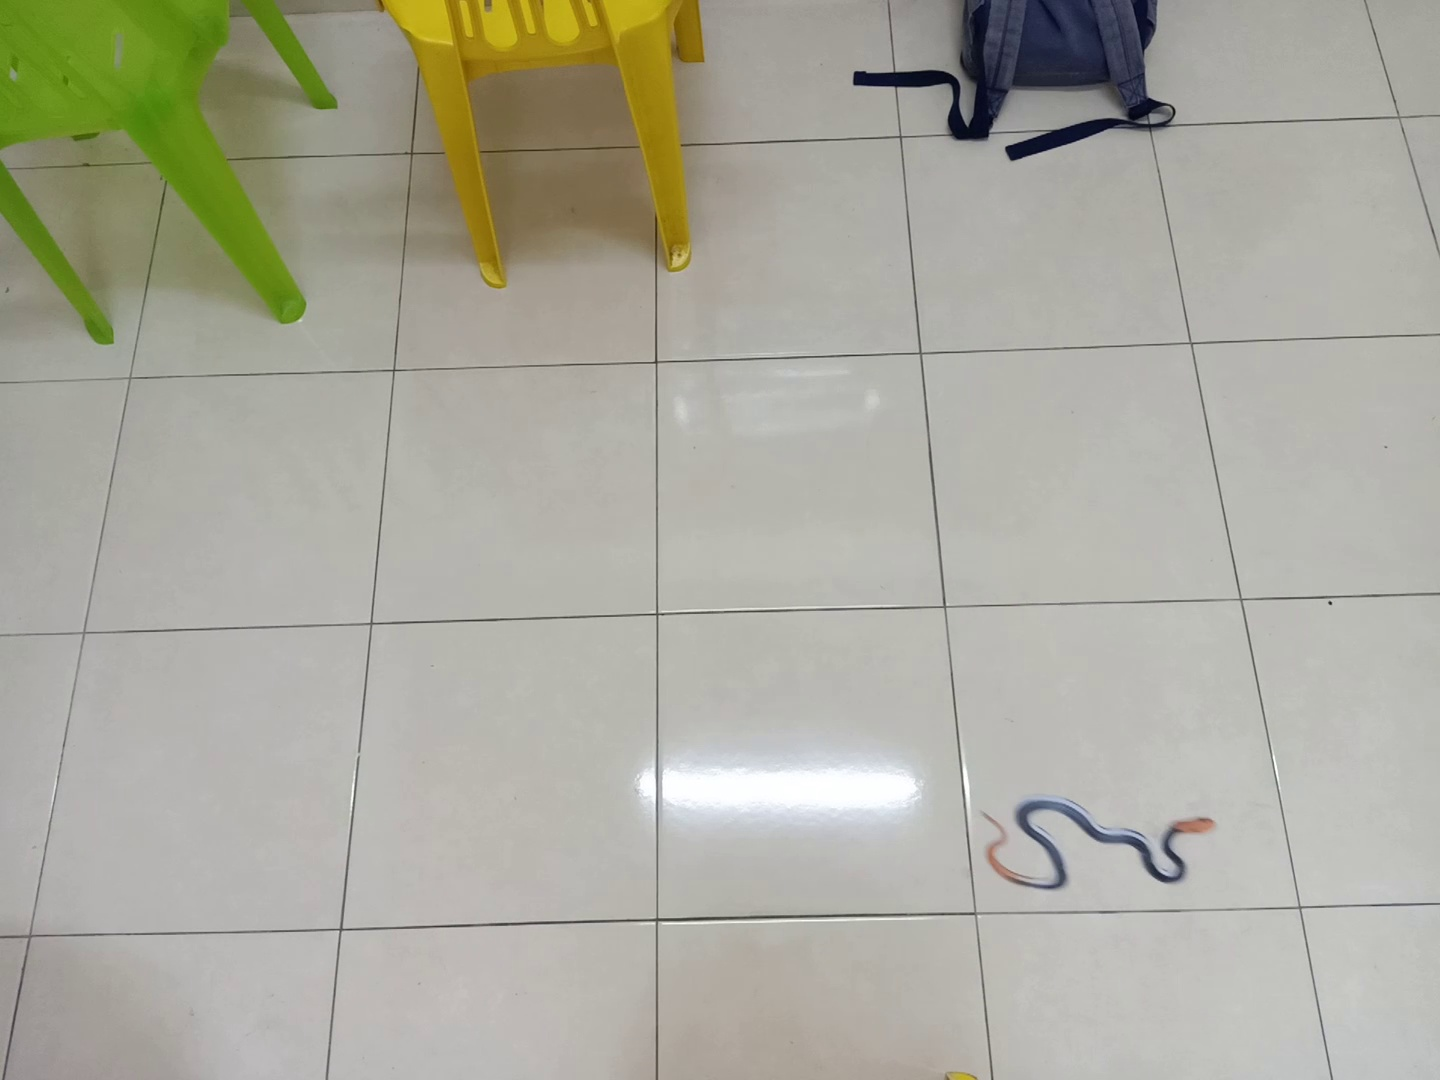snake: (972, 788, 1225, 901)
